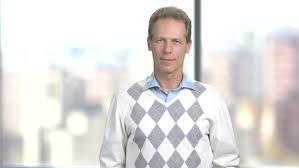white_male: (144, 15, 187, 78)
